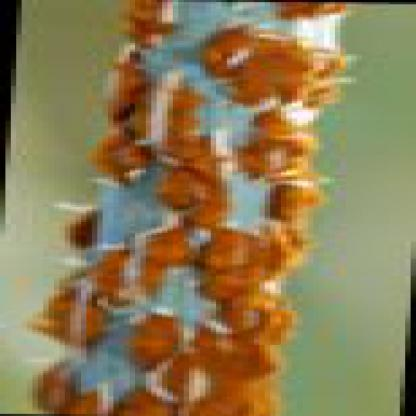wheat Stem Rust: (130, 0, 282, 415), (68, 225, 124, 416), (294, 0, 348, 110), (35, 378, 63, 406)
